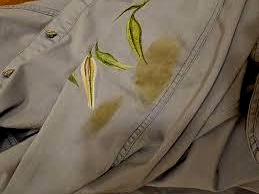earth: (136, 67, 167, 99), (89, 107, 112, 131), (151, 44, 175, 65)
